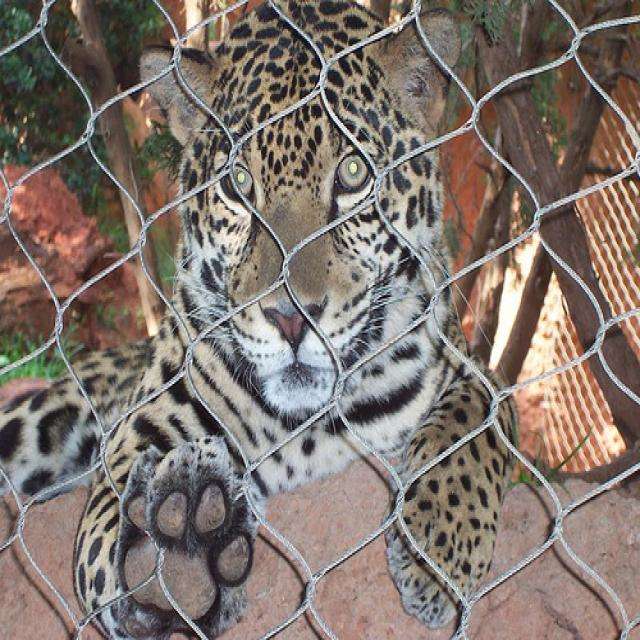Leopard: (0, 0, 515, 635)
